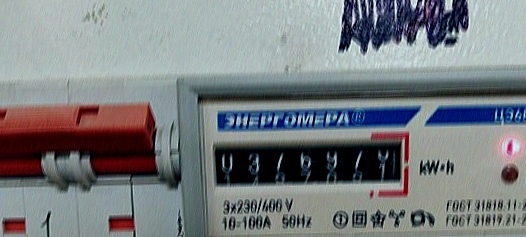0: (215, 150, 230, 172)
1: (373, 161, 384, 181)
3: (243, 153, 258, 174)
6: (294, 146, 310, 170)
7: (268, 148, 284, 173), (346, 147, 362, 171)
9: (320, 147, 335, 170)
screen: (200, 122, 412, 207)
